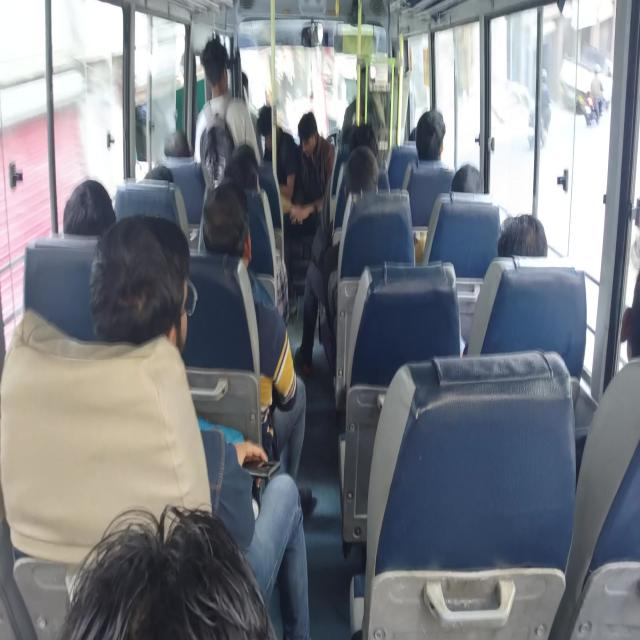person: (57, 519, 286, 640), (106, 250, 208, 357), (74, 175, 130, 272), (496, 218, 554, 274), (617, 267, 640, 379), (138, 151, 180, 201), (194, 196, 232, 251), (216, 157, 264, 199), (418, 108, 452, 162), (162, 132, 200, 176), (445, 154, 476, 202), (198, 44, 225, 92), (353, 153, 386, 192), (254, 96, 273, 160), (296, 115, 323, 159), (226, 69, 254, 111), (346, 120, 377, 151), (235, 134, 255, 156), (406, 125, 424, 142)
